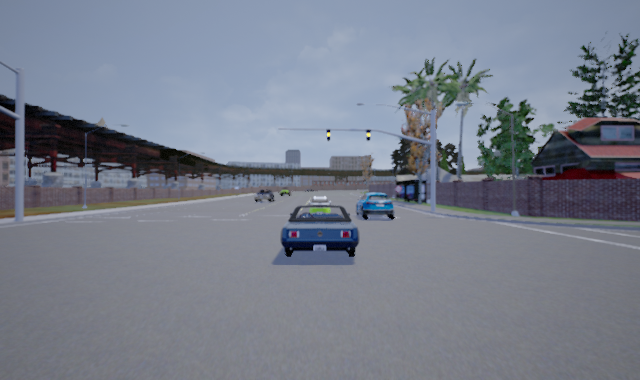vehicle: (279, 201, 359, 258), (353, 191, 397, 221), (307, 195, 332, 219), (253, 189, 275, 202)
